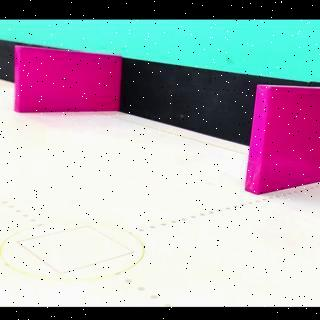xparking: (18, 61, 118, 120), (263, 88, 318, 194)
